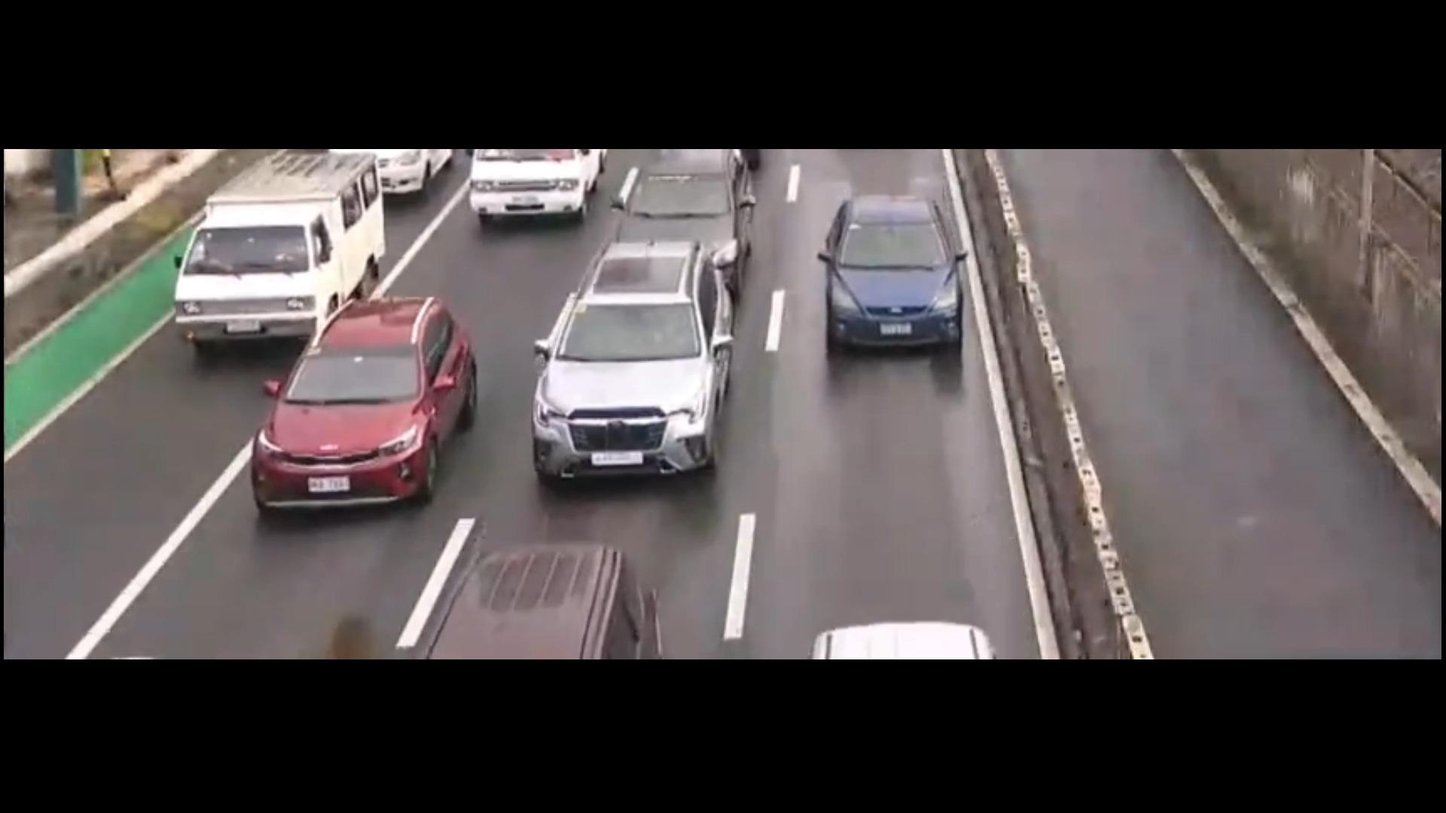Multicab: (162, 145, 383, 362)
SUV: (516, 237, 767, 508), (242, 277, 479, 541), (581, 147, 770, 273)
Sedan: (808, 172, 1010, 372)
